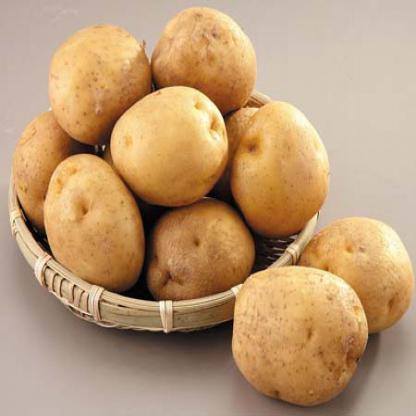potato: (226, 262, 372, 415), (40, 5, 158, 148), (295, 196, 415, 332), (224, 97, 336, 241), (44, 149, 142, 304), (106, 87, 235, 204), (146, 0, 272, 110)
